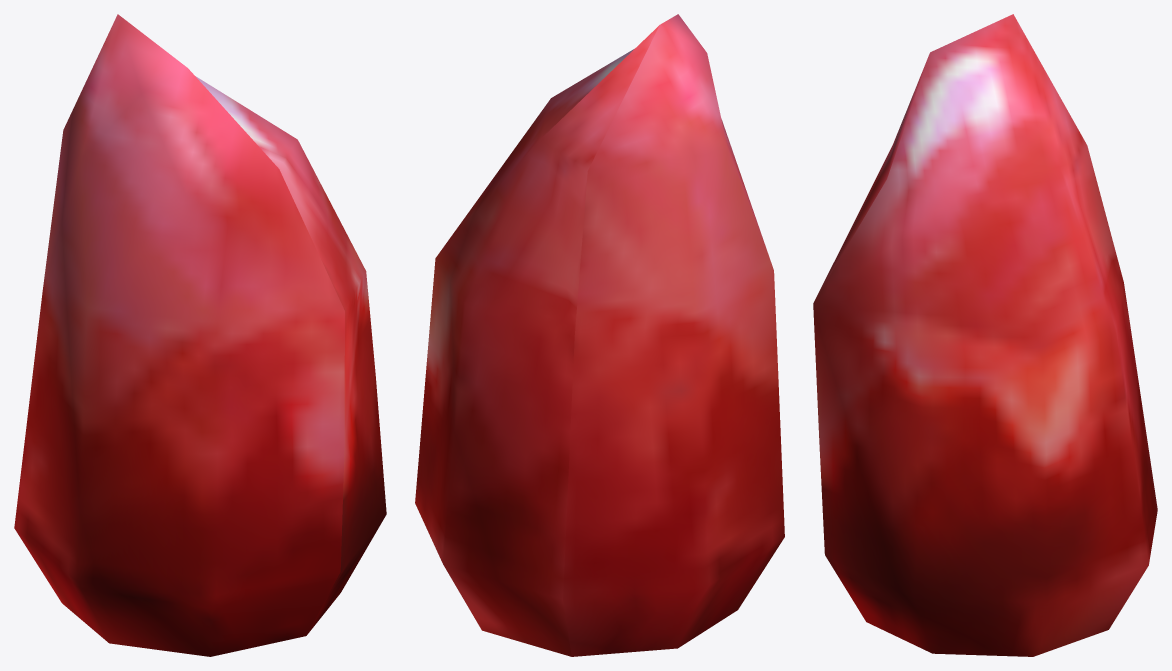
Rendered from jingshi1.FBX.
3 renders of one model, left to right at view 1: azimuth 30°, elevation 25°; view 2: azimuth 150°, elevation 25°; view 3: azimuth 270°, elevation 25°, orthographic. The views are drawn at different scales.
Parts seen in each view (by area): view 1: JiTan01; view 2: JiTan01; view 3: JiTan01.
Boxes of the visible parts, x1,y1,x2,y2 form: JiTan01: (14,14,386,656); JiTan01: (415,14,784,656); JiTan01: (813,14,1157,656).
Bounding box in the file's own units: 2310 × 4285 × 2391.
